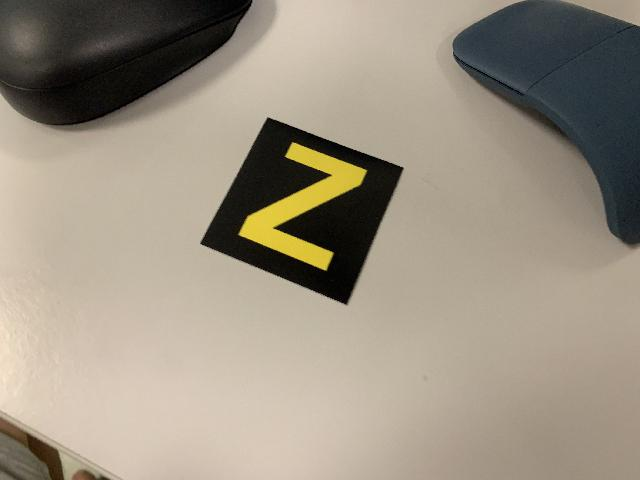alphabet_z: (197, 112, 406, 307)
